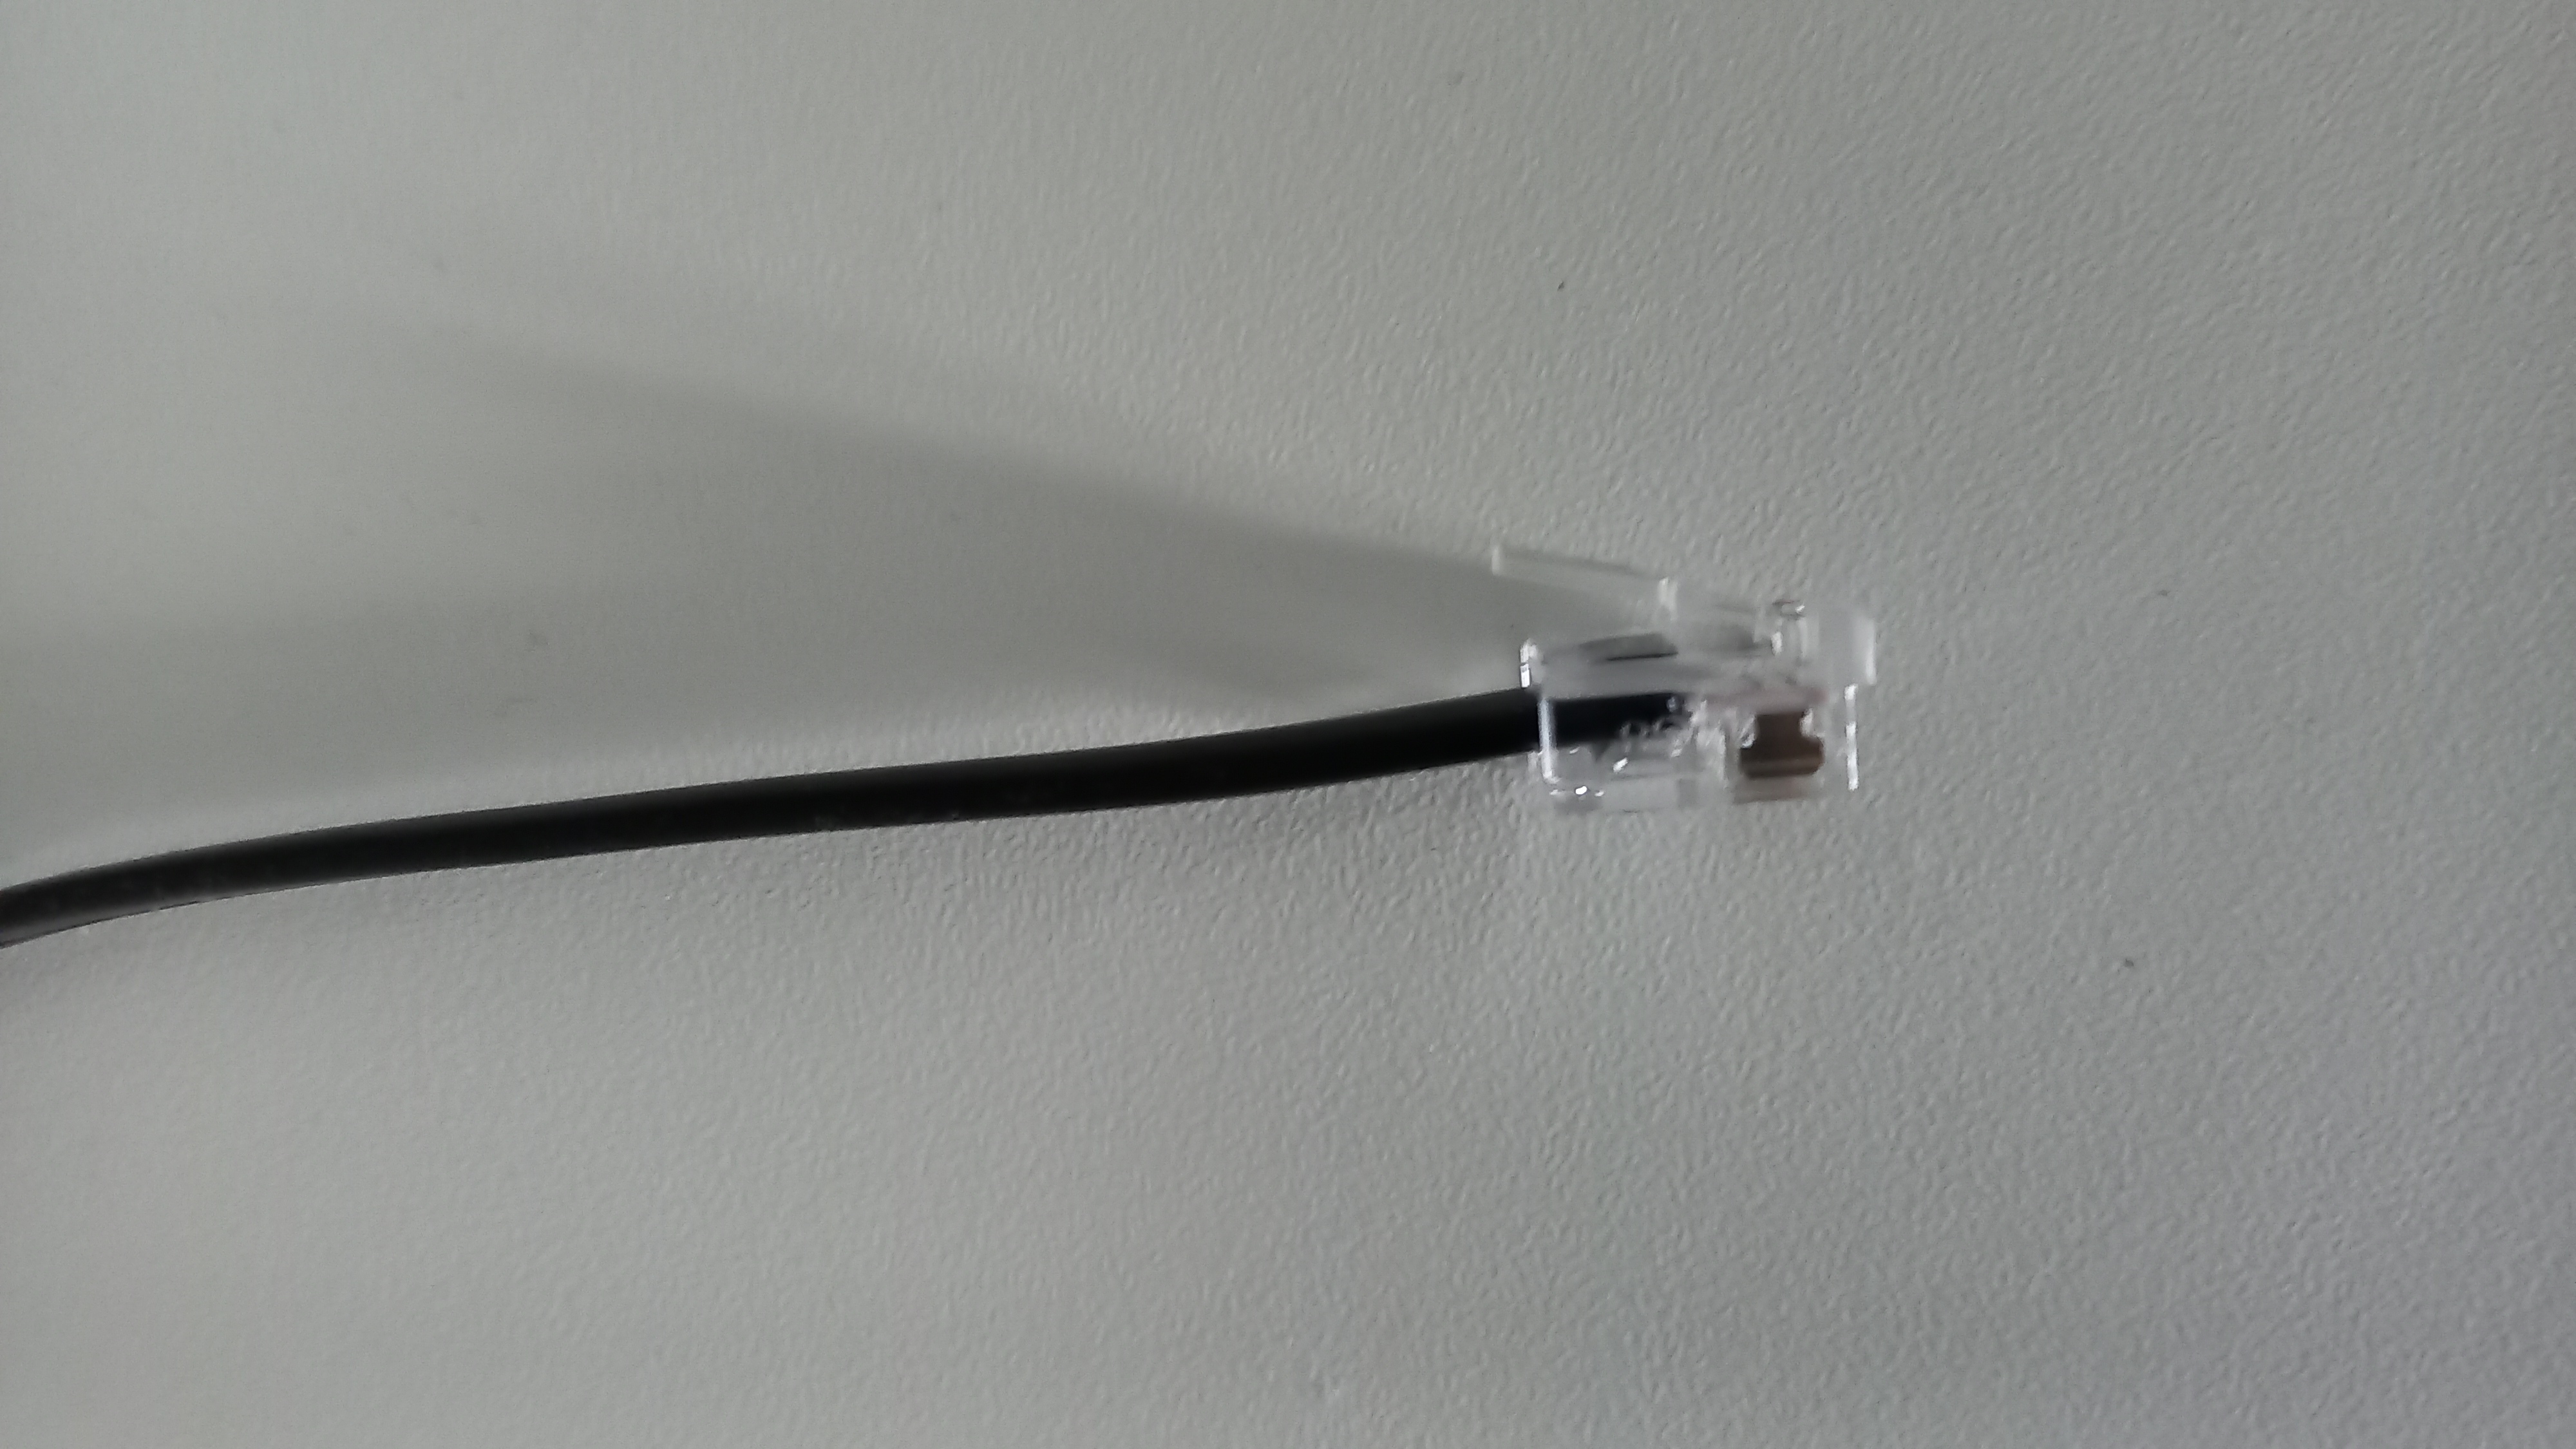Kabel: (12, 520, 1898, 966)
